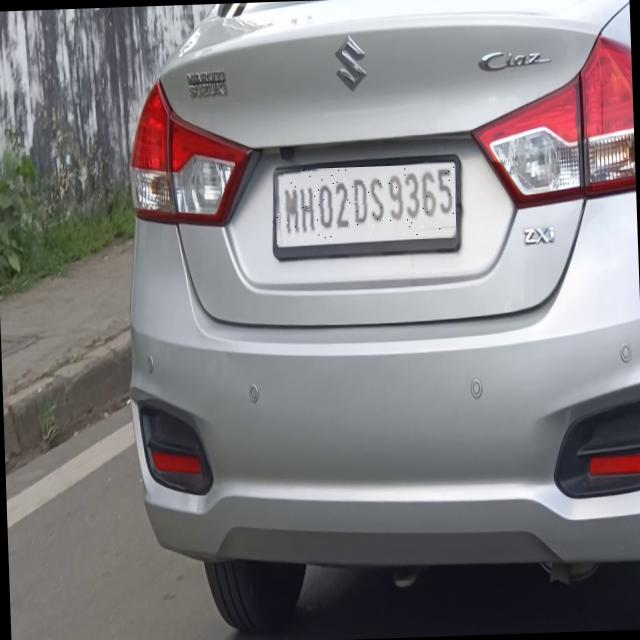Plate: (275, 165, 457, 245)
